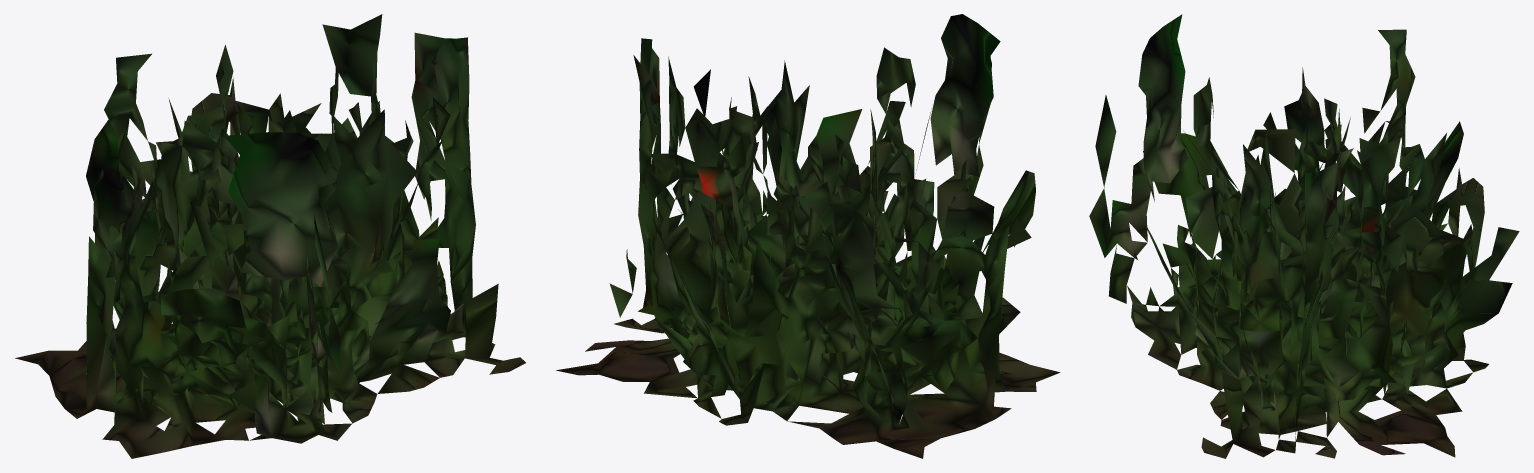
The model's file is grass_a.1.glb.
The picture shows the model from 3 angles, left to right: view 1: azimuth 30°, elevation 25°; view 2: azimuth 150°, elevation 25°; view 3: azimuth 270°, elevation 25°; orthographic projection. The views are drawn at different scales.
Parts seen in each view (by area): view 1: lod; view 2: lod; view 3: lod.
Part boxes in pixels (x1,y1,x2,y2): lod: [15, 14, 525, 458]; lod: [556, 14, 1060, 458]; lod: [1089, 14, 1519, 458].
Size of the model in its own units: 0.9204 by 0.7 by 0.9043.
